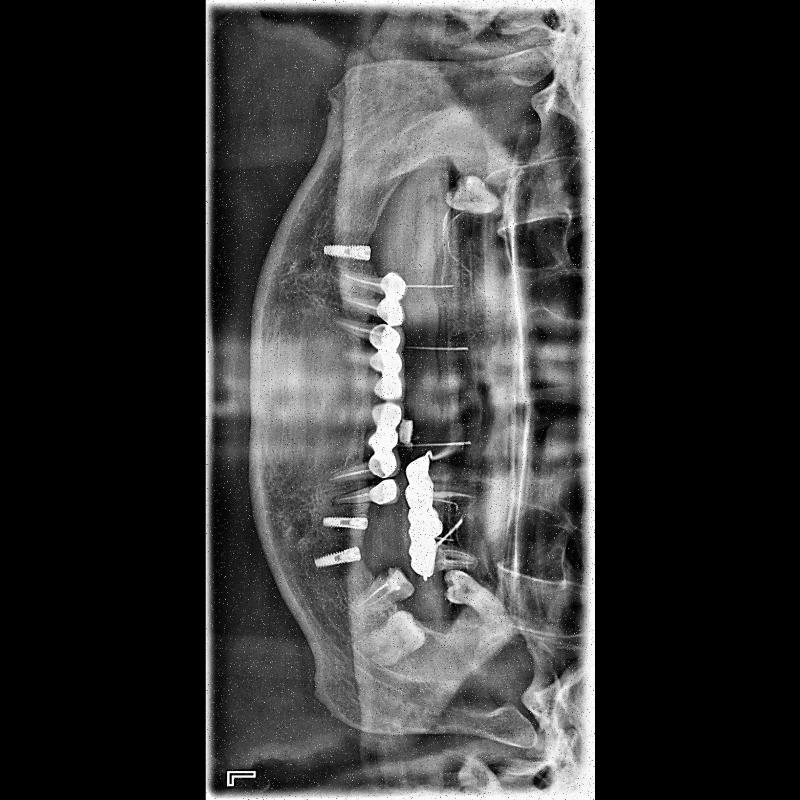osstem: (320, 510, 370, 536), (325, 240, 371, 264), (315, 548, 363, 570)
